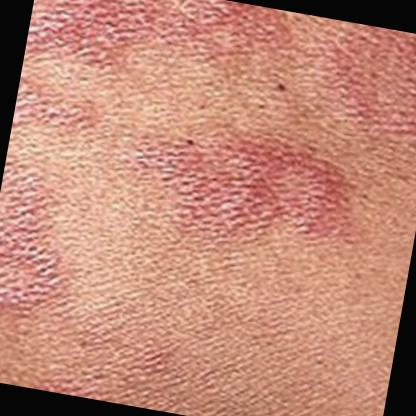Leprosy: (106, 122, 354, 254), (24, 0, 290, 103), (0, 155, 86, 325), (12, 78, 105, 142)
